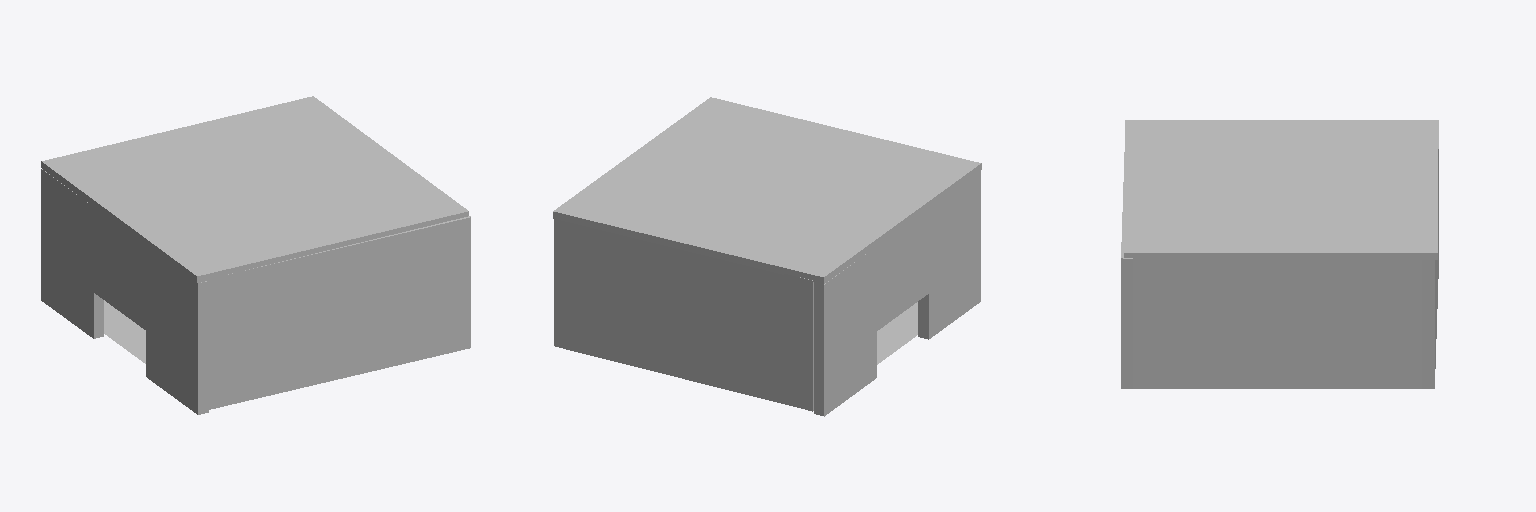
Rendered from room.obj.
The picture shows the model from 3 angles: view 1: azimuth 30°, elevation 25°; view 2: azimuth 150°, elevation 25°; view 3: azimuth 270°, elevation 25°; orthographic projection.
Visible parts, largest first — view 1: pCube5, pCube3, pCube7, pPlane1; view 2: pCube5, pCube4, pCube7, pPlane1; view 3: pCube5, pCube2, pCube4, pCube3.
Boxes of the visible parts, x1,y1,x2,y2 form: pCube5: [41, 96, 468, 282]; pCube3: [209, 216, 470, 409]; pCube7: [41, 169, 208, 414]; pPlane1: [104, 300, 145, 363]; pCube5: [553, 97, 981, 284]; pCube4: [554, 219, 813, 411]; pCube7: [814, 171, 980, 416]; pPlane1: [877, 302, 917, 364]; pCube5: [1124, 120, 1438, 259]; pCube2: [1133, 260, 1421, 388]; pCube4: [1422, 157, 1438, 388]; pCube3: [1121, 152, 1132, 388].
Bounding box in the file's own units: 25.15 × 12.27 × 25.43.